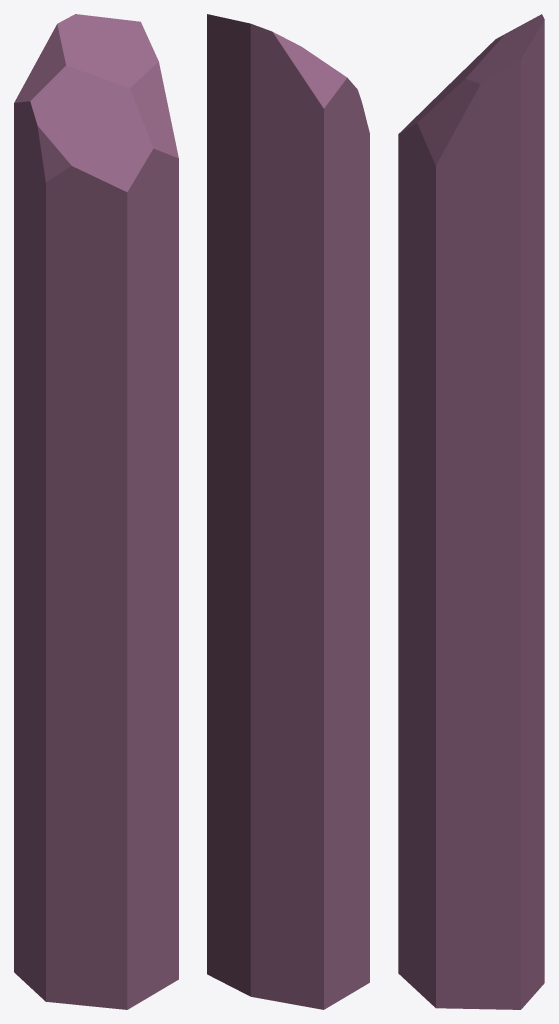
Rendered from Jem_30.fbx.
3 renders of one model, left to right at view 1: azimuth 30°, elevation 25°; view 2: azimuth 150°, elevation 25°; view 3: azimuth 270°, elevation 25°, orthographic. The views are drawn at different scales.
Visible parts, largest first — view 1: Jem_30; view 2: Jem_30; view 3: Jem_30.
Boxes of the visible parts, x1,y1,x2,y2 form: Jem_30: (14,14,178,1009); Jem_30: (207,14,369,1009); Jem_30: (398,14,544,1009).
Bounding box in the file's own units: 13.25 × 94.27 × 13.01.
